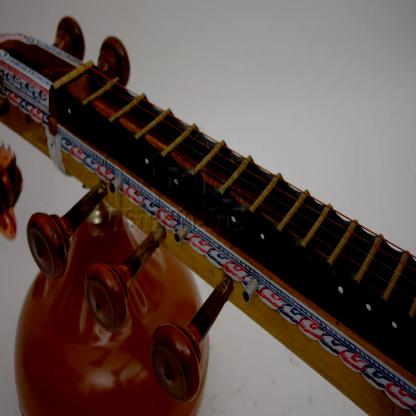Veena: (16, 40, 384, 294)
